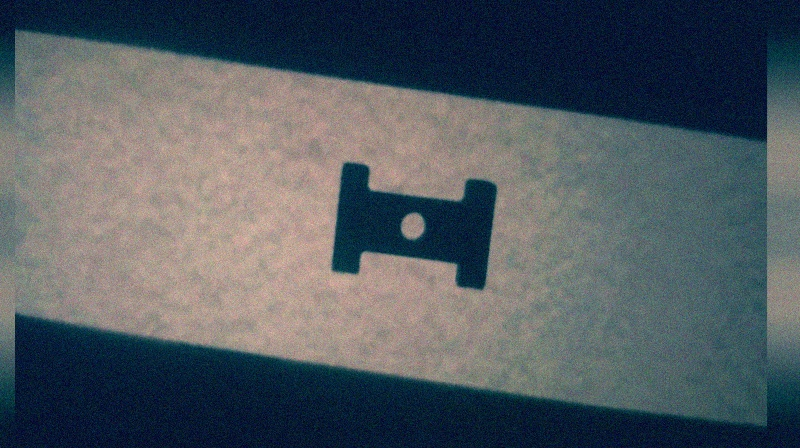O002: (326, 160, 499, 292)
